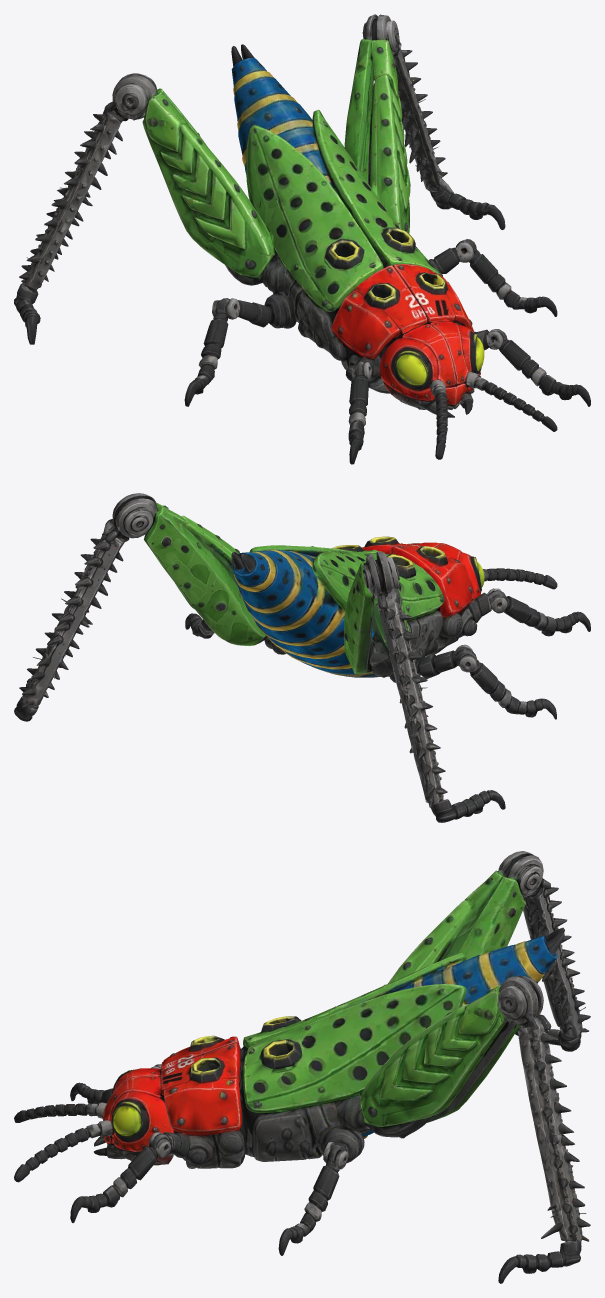
File: grasshopper.glb
3 renders of one model, top to bottom at view 1: azimuth 30°, elevation 25°; view 2: azimuth 150°, elevation 25°; view 3: azimuth 270°, elevation 25°, orthographic. The views are drawn at different scales.
Bounding box in the file's own units: 3.4 × 1.59 × 3.38.
Materials: 1 (1 with a texture image).
